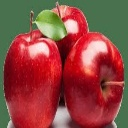apple: (63, 32, 125, 128)
